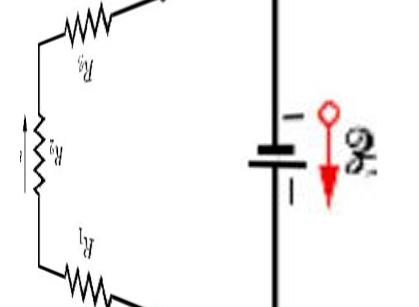Battery: (203, 79, 310, 214)
